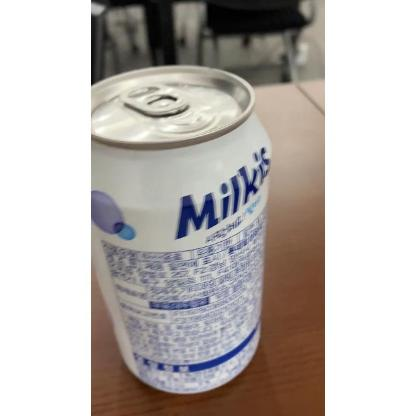Can: (92, 63, 276, 396)
